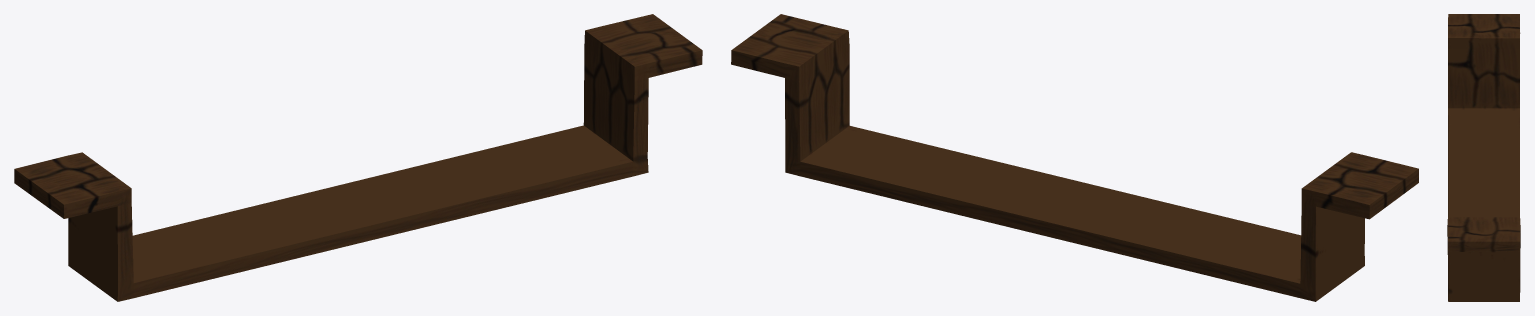
File: Spike_Pit_Platform_2.fbx
The picture shows the model from 3 angles, left to right: view 1: azimuth 30°, elevation 25°; view 2: azimuth 150°, elevation 25°; view 3: azimuth 270°, elevation 25°; orthographic projection. The views are drawn at different scales.
Visible parts, largest first — view 1: Spike_Pit_Platform_4; view 2: Spike_Pit_Platform_4; view 3: Spike_Pit_Platform_4.
Boxes of the visible parts, left/top/right/bottom form: Spike_Pit_Platform_4: left=14, top=14, right=702, bottom=301; Spike_Pit_Platform_4: left=731, top=14, right=1418, bottom=301; Spike_Pit_Platform_4: left=1447, top=14, right=1520, bottom=301.
Bounding box in the file's own units: 14.45 × 2.39 × 1.97.
